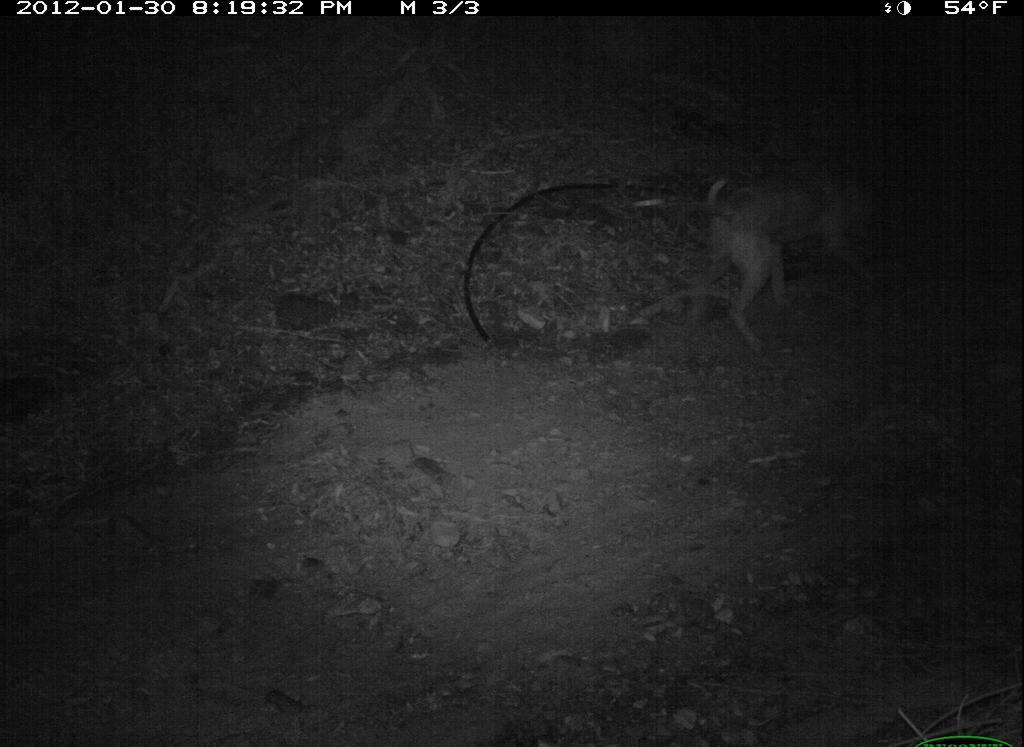dog: (701, 167, 886, 344)
